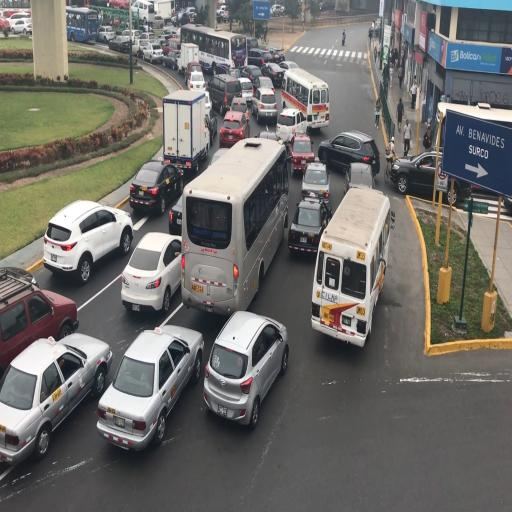auto: (1, 332, 112, 470), (97, 323, 203, 449), (202, 311, 287, 428), (1, 268, 77, 393), (43, 194, 132, 280), (120, 232, 184, 314), (390, 147, 474, 206), (129, 158, 185, 214), (318, 130, 376, 179), (207, 73, 243, 116), (300, 158, 329, 204), (288, 132, 316, 177), (218, 109, 250, 148), (276, 106, 305, 144), (252, 86, 278, 124), (261, 61, 286, 87), (241, 64, 264, 88), (110, 31, 135, 53), (184, 60, 205, 86), (128, 35, 150, 57), (245, 48, 269, 68), (161, 48, 182, 70), (141, 42, 163, 63), (7, 16, 32, 34), (171, 8, 193, 27), (96, 24, 115, 44), (267, 46, 286, 65), (255, 76, 275, 94), (277, 59, 299, 75), (138, 31, 157, 47), (258, 130, 278, 143), (158, 29, 175, 44), (222, 8, 232, 20), (270, 6, 279, 18), (186, 6, 197, 15)
bus: (182, 135, 287, 313), (311, 184, 386, 344), (432, 100, 511, 215), (282, 66, 328, 133), (182, 24, 235, 76), (67, 6, 100, 42), (130, 0, 156, 24)
camion: (161, 88, 208, 178), (178, 42, 199, 77)
moto: (341, 32, 346, 46)
